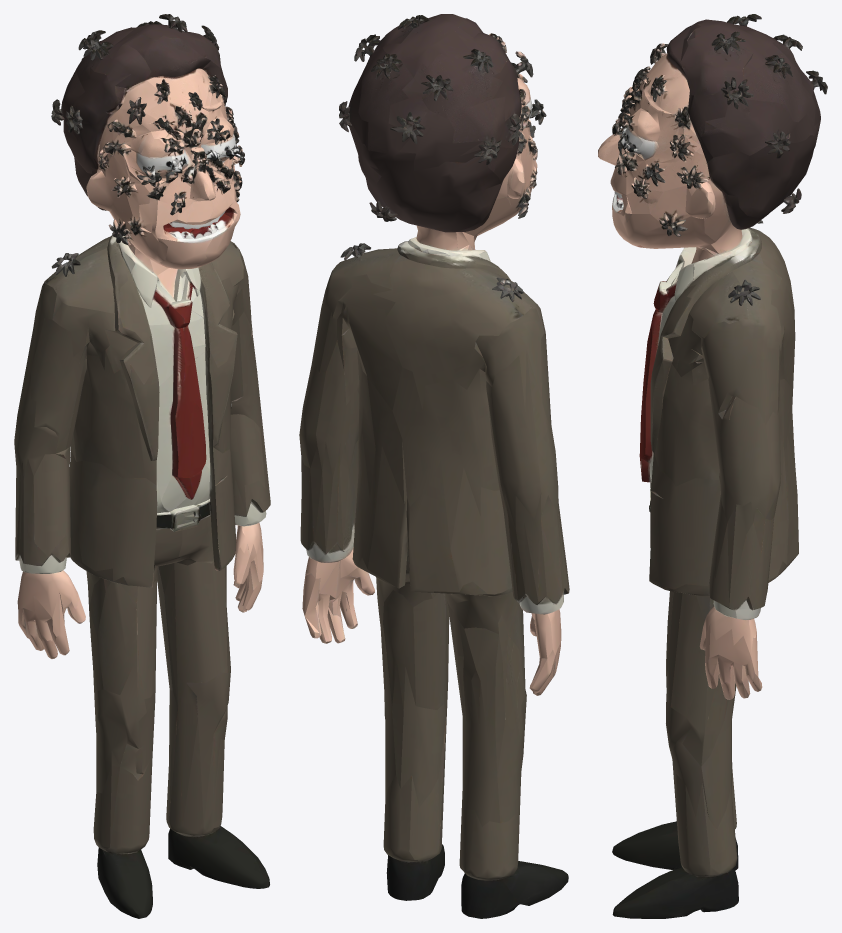
Rendered from antsjohnson.glb.
The picture shows the model from 3 angles, left to right: view 1: azimuth 30°, elevation 25°; view 2: azimuth 150°, elevation 25°; view 3: azimuth 270°, elevation 25°; orthographic projection. The views are drawn at different scales.
Size of the model in its own units: 0.587 by 1.9 by 0.4594.
1 material, 1 textured.
